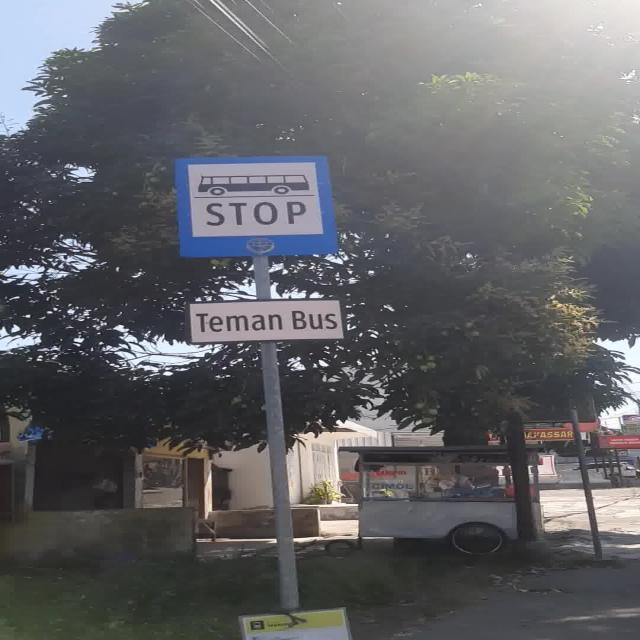Pemberhentian Bus: (173, 154, 340, 258)
